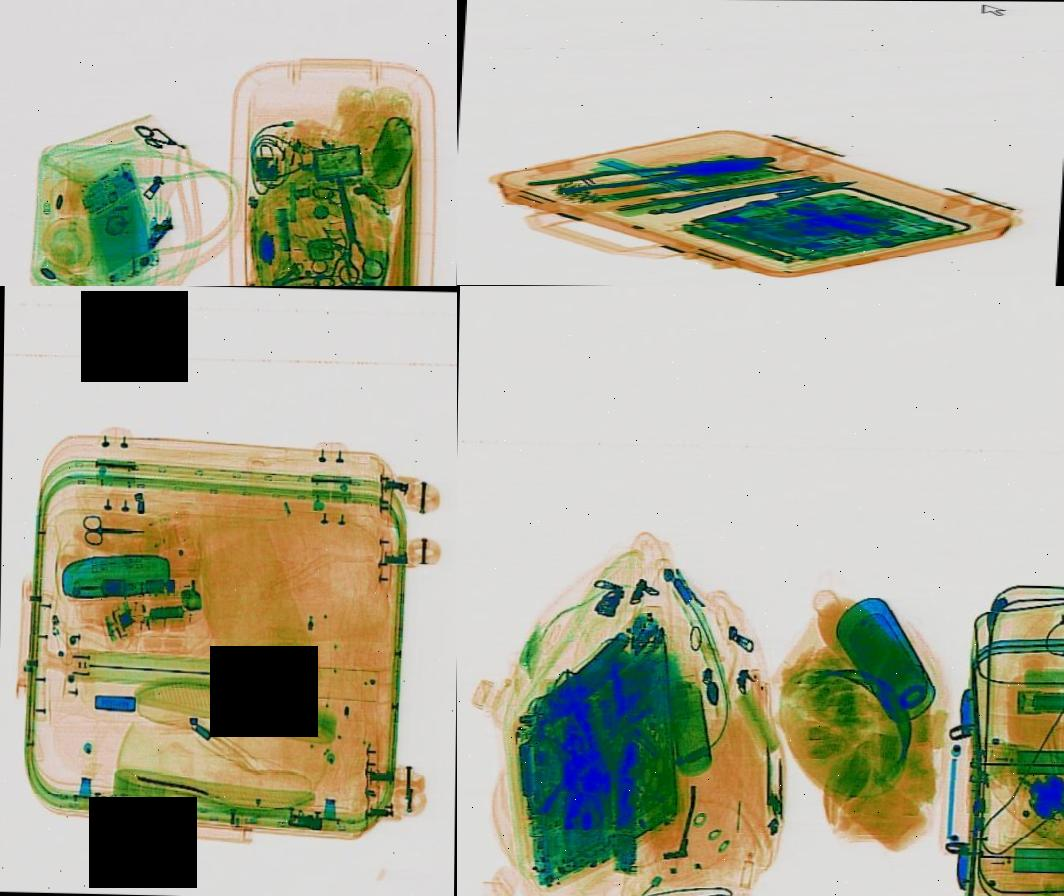Pliers: (522, 148, 778, 198)
Scissors: (313, 168, 388, 286), (80, 512, 144, 546)
